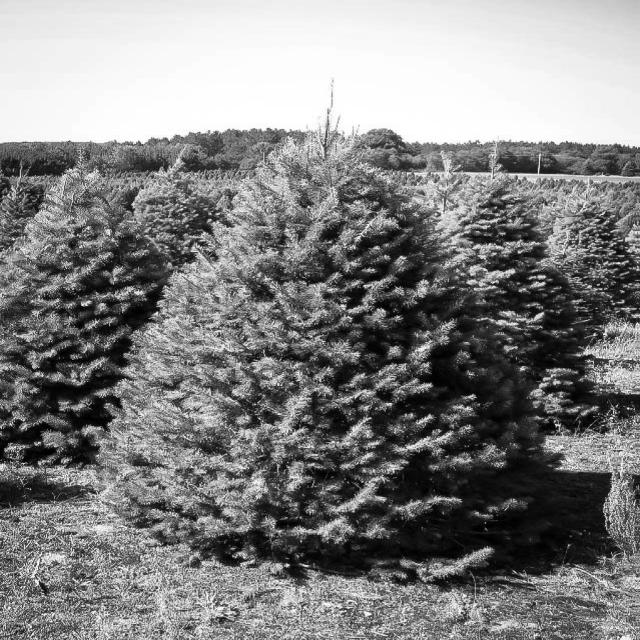Pseudotsuga menziesii: (100, 117, 564, 570), (5, 147, 164, 468), (407, 174, 586, 388), (546, 176, 640, 318)
